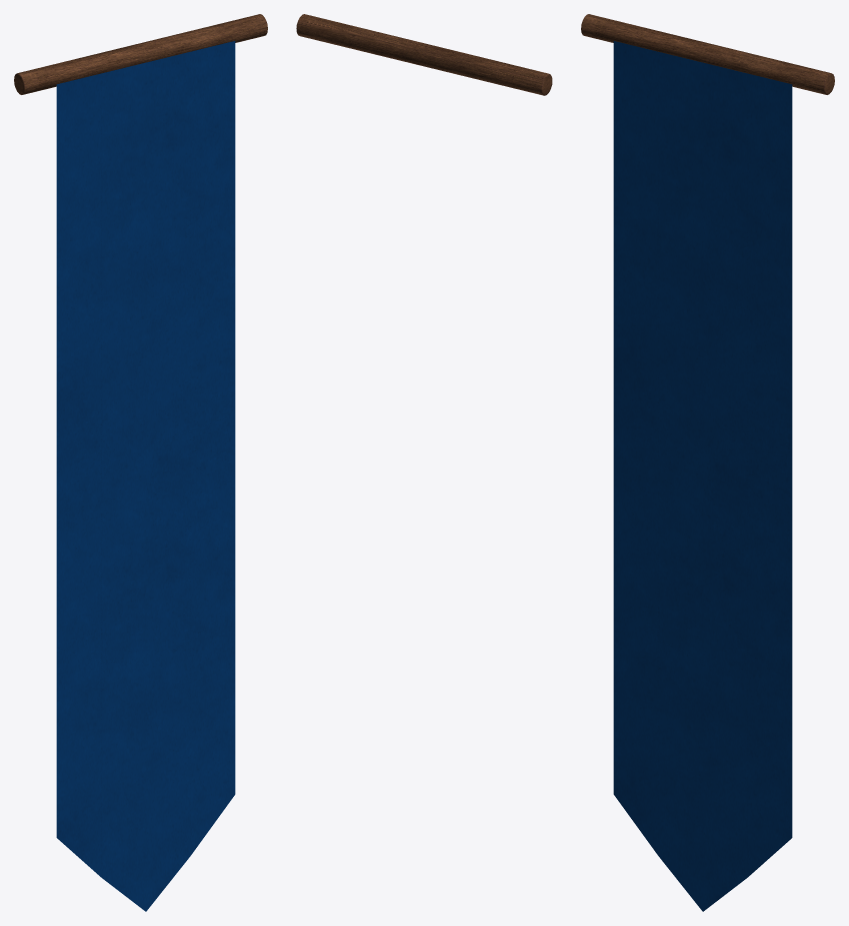
The model's file is longTapestryBlue.glb.
3 renders of one model, left to right at view 1: azimuth 30°, elevation 25°; view 2: azimuth 150°, elevation 25°; view 3: azimuth 330°, elevation 25°, orthographic.
Parts seen in each view (by area): view 1: group6 (×2); view 2: group6; view 3: group6 (×2).
Part boxes in pixels (x1,y1,x2,y2): group6 (×2): (14,14,267,911); group6: (296,14,552,95); group6 (×2): (581,14,834,911).
Bounding box in the file's own units: 3.96 × 13.4 × 0.3174.
Materials: 2 (2 with a texture image).
